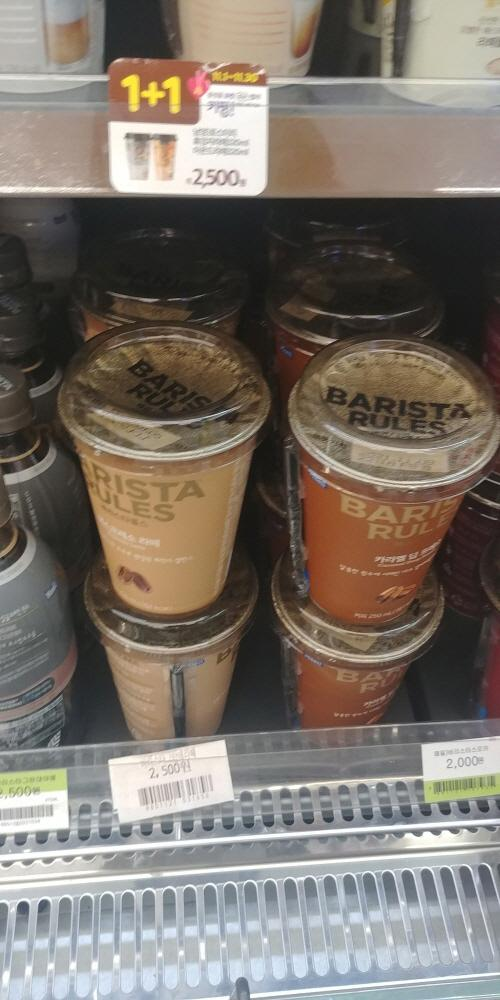baristarules_espressolatte: (48, 333, 265, 635)
